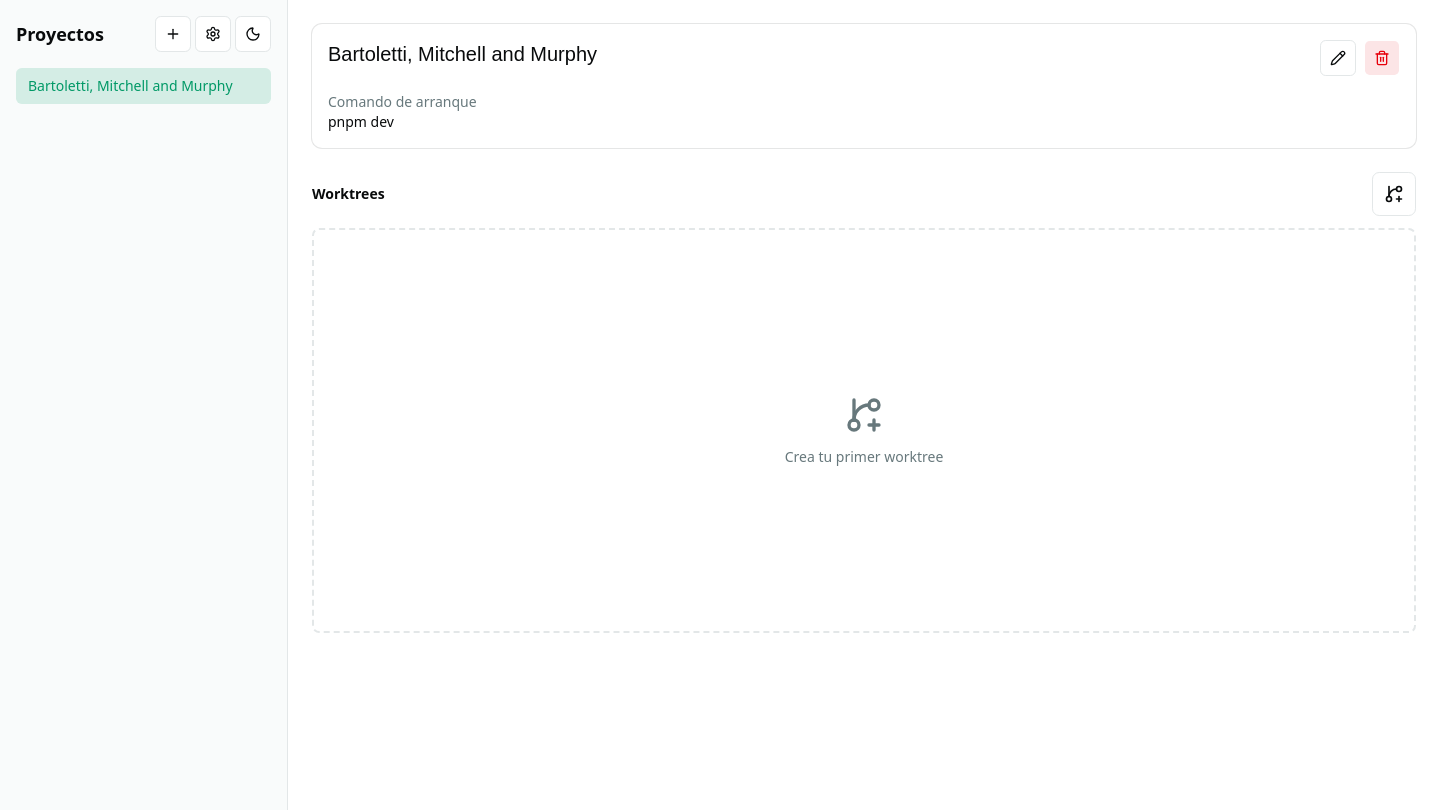
Test case: app routes › should start and stop a worktree's dev environment
The image size is (1440, 810).
Expected: the text "Crea tu primer worktree" is shown, x1=785 y1=446 x2=943 y2=466
Click the button named "Crear worktree" at (1394, 194), box x1=1372 y1=172 x2=1416 y2=216
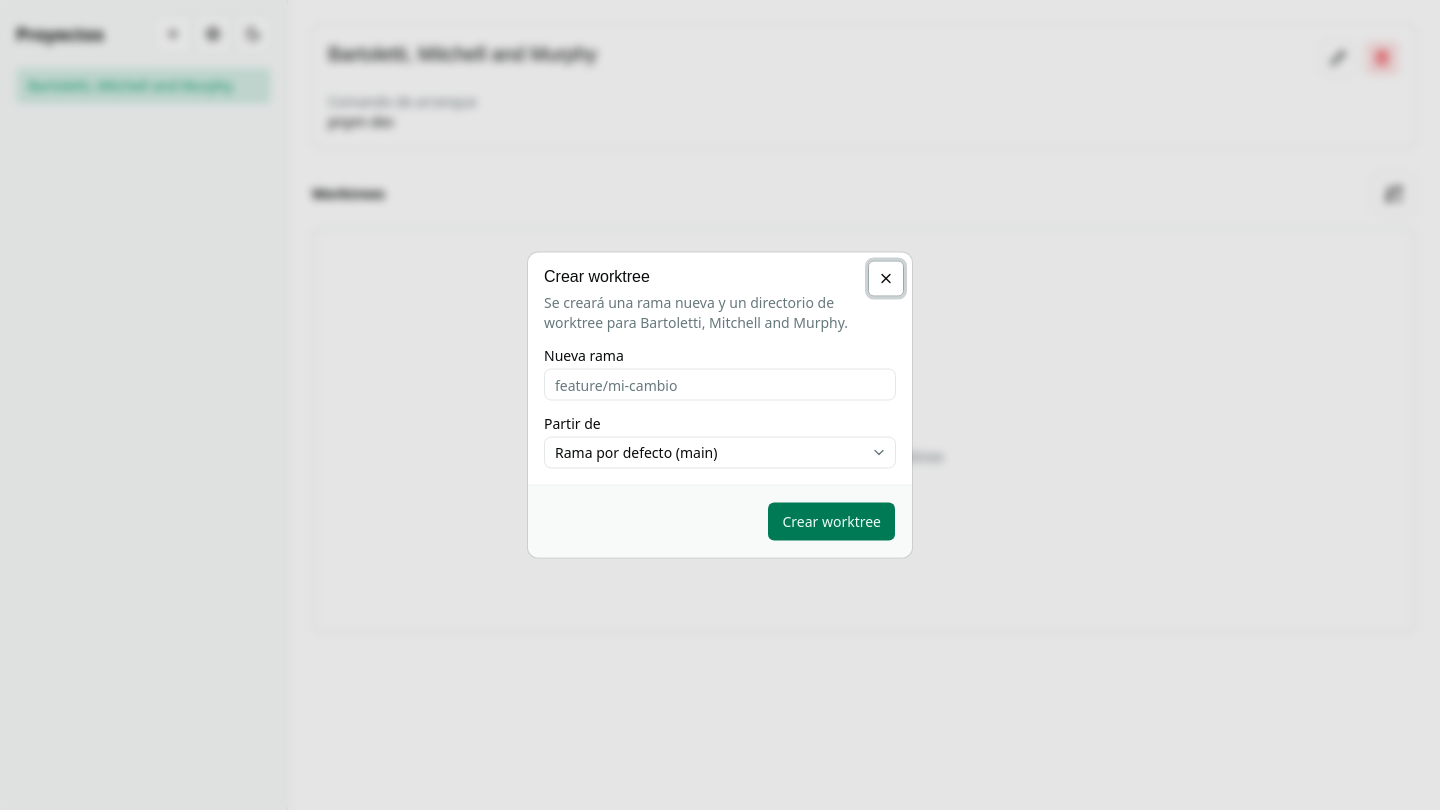
Type "feature-a" into the field labelled "Nueva rama" at (720, 384), box x1=544 y1=368 x2=896 y2=400
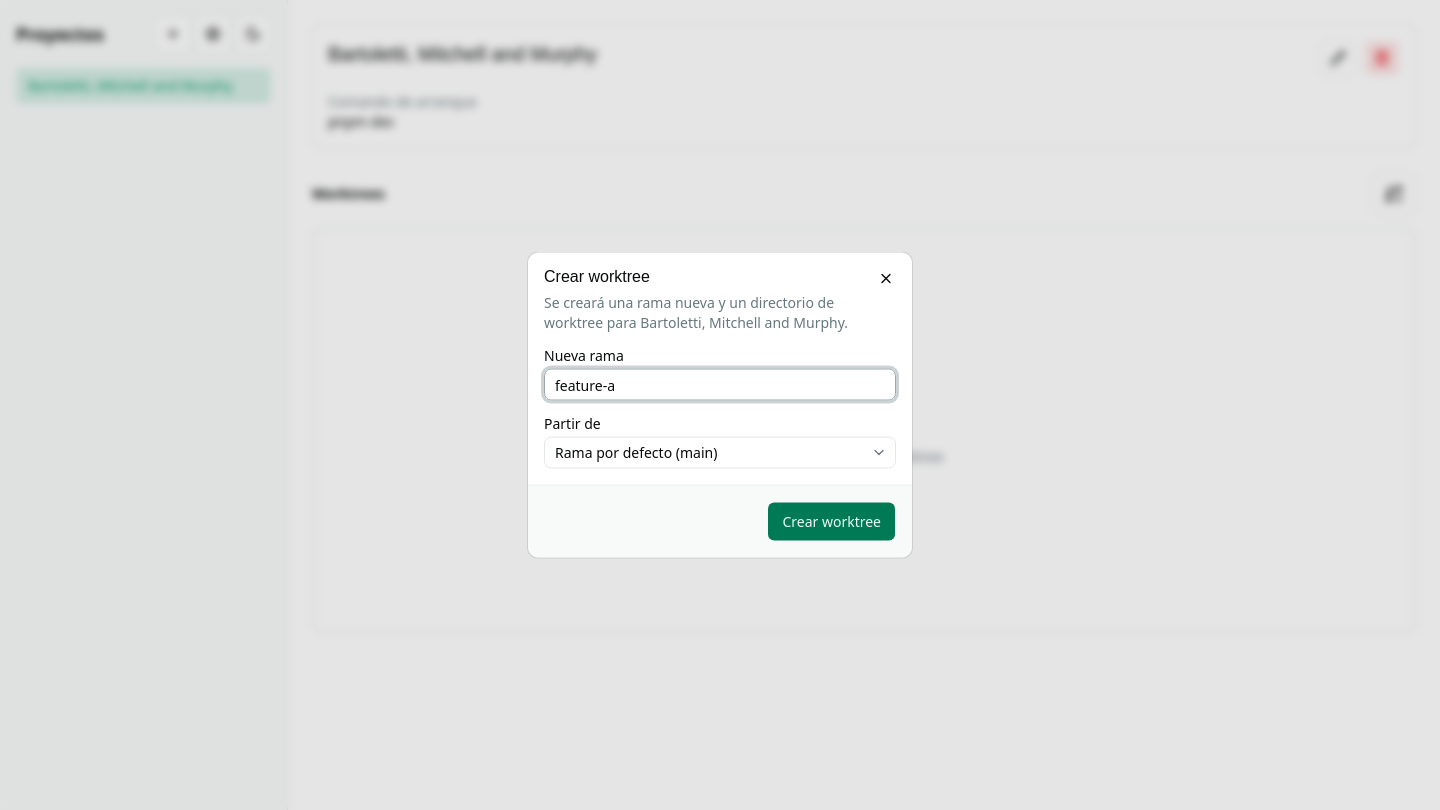
Click the button "Crear worktree" at (832, 522), box x1=767 y1=502 x2=896 y2=542
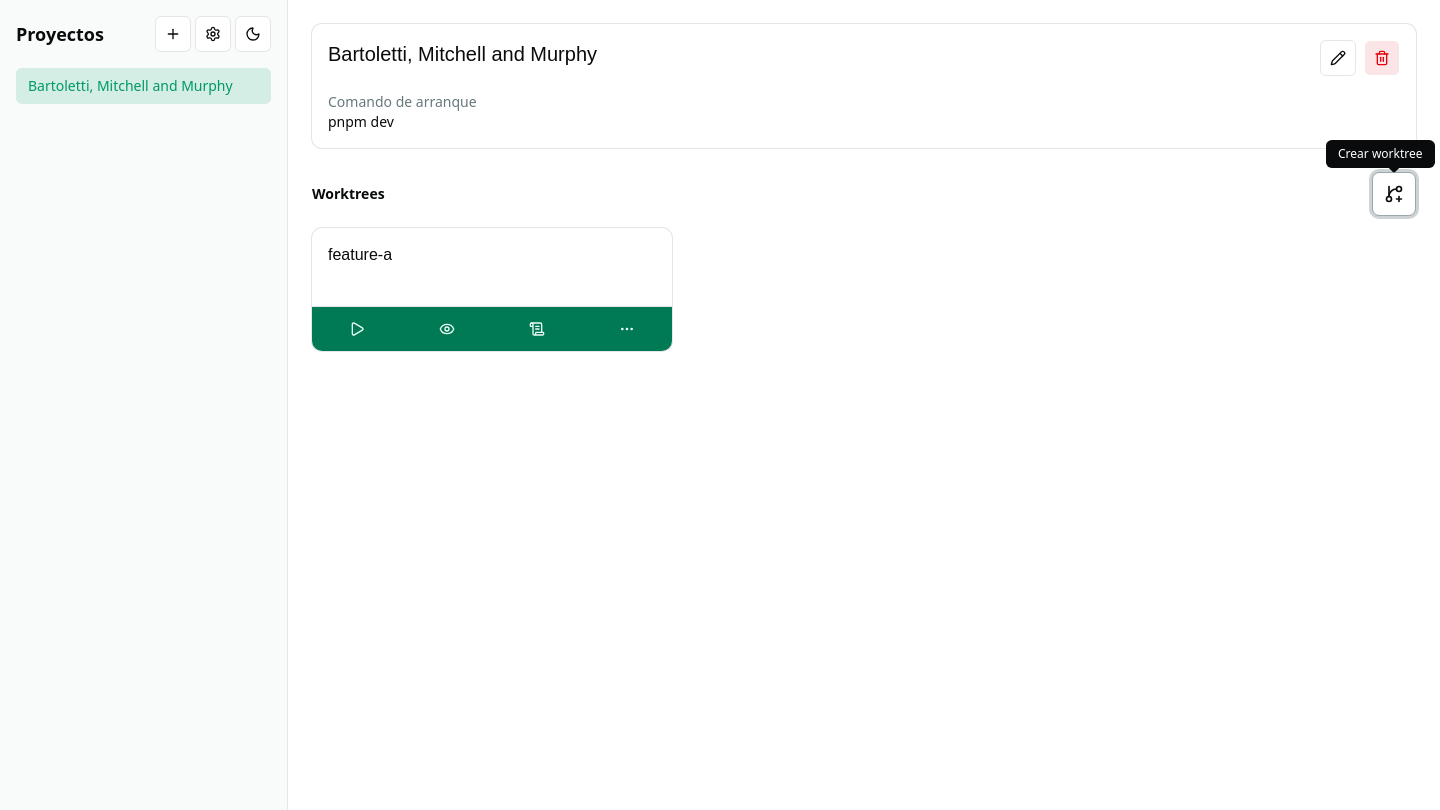
Now the heading "feature-a" is shown, box x1=328 y1=244 x2=392 y2=266
Now the button named "Arrancar" is shown
Click the button named "Arrancar" at (357, 329), box x1=312 y1=307 x2=402 y2=351
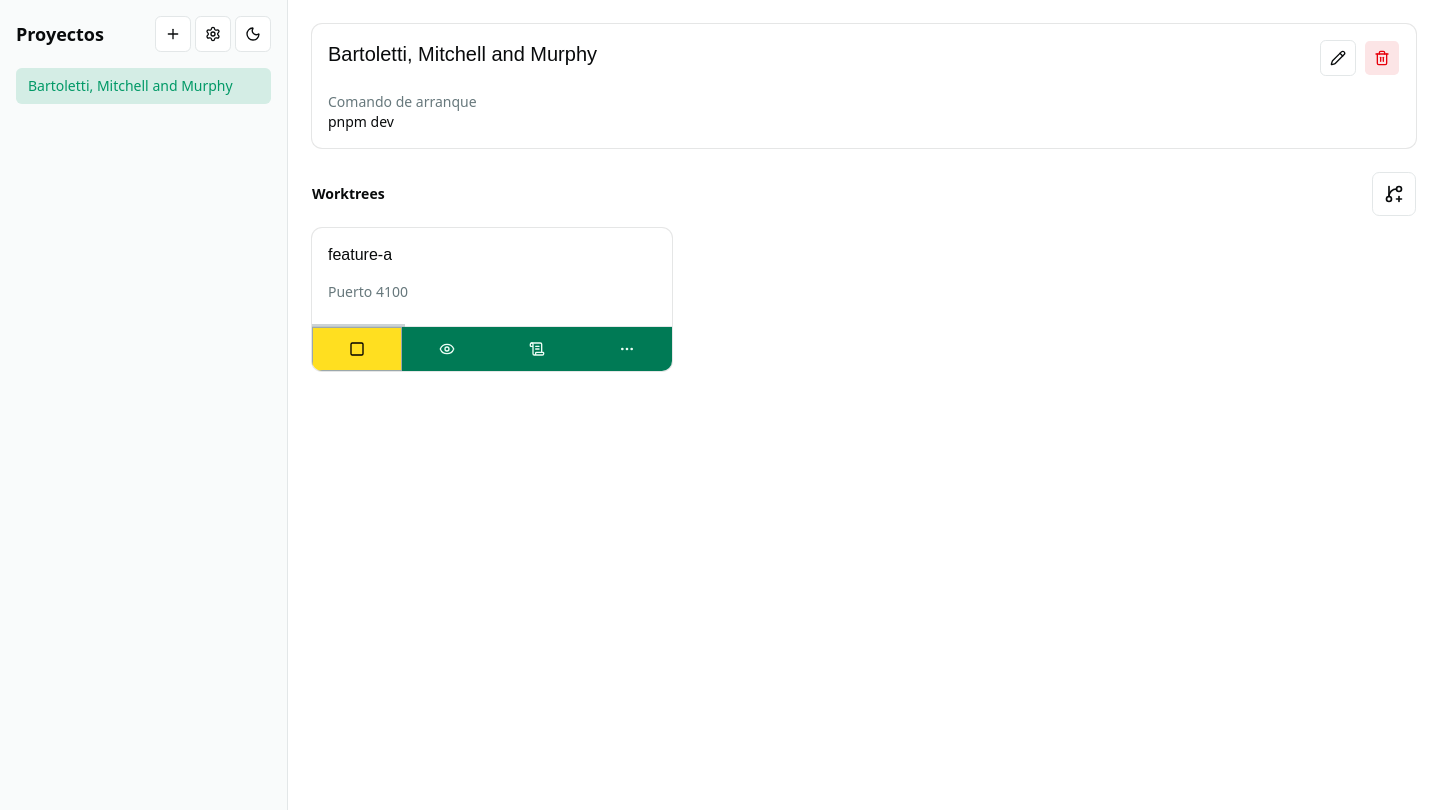
Now the button named "Parar" is shown
Click the button named "Parar" at (357, 349), box x1=312 y1=327 x2=402 y2=371
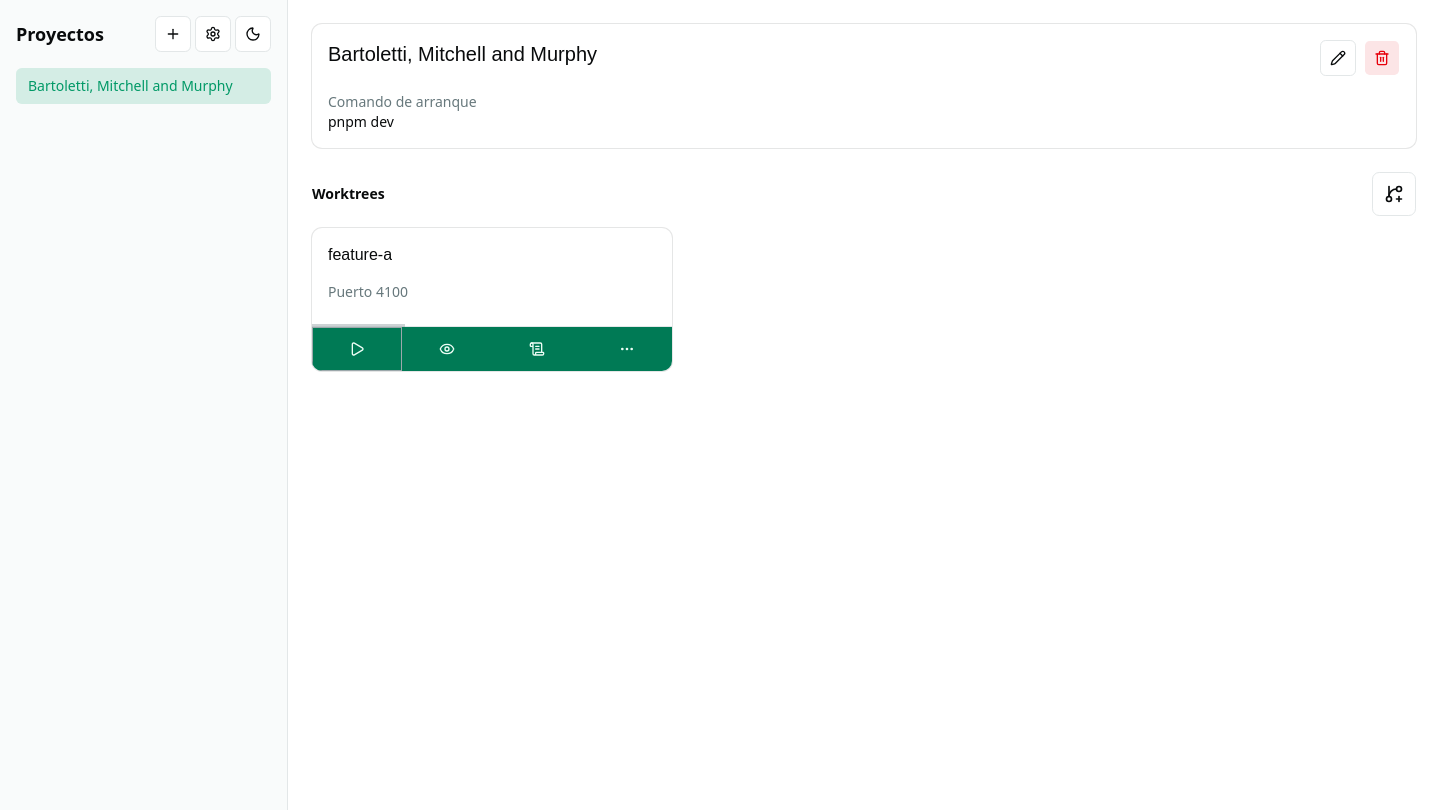
Now the button named "Arrancar" is shown, box x1=312 y1=327 x2=402 y2=371
